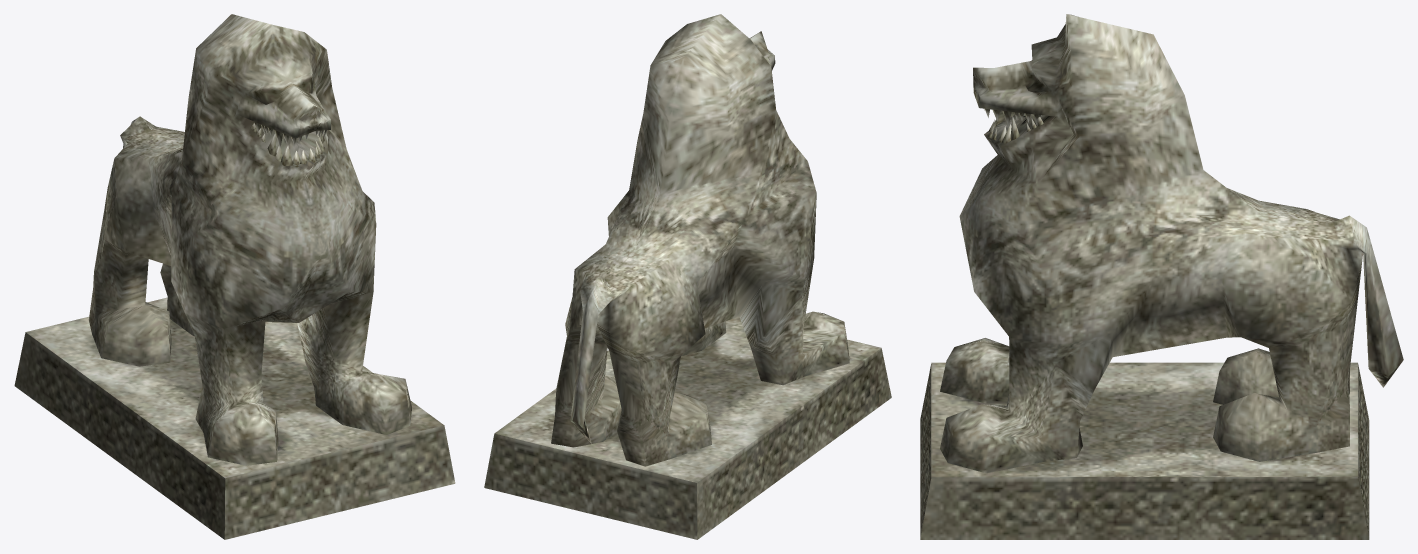
Rendered from general_obj_lionstoneimage.fbx.
3 renders of one model, left to right at view 1: azimuth 30°, elevation 25°; view 2: azimuth 150°, elevation 25°; view 3: azimuth 270°, elevation 25°, orthographic. The views are drawn at different scales.
Visible parts, largest first — view 1: Object19; view 2: Object19; view 3: Object19.
Boxes of the visible parts, bbox=[...] form: Object19: bbox=[14, 14, 455, 539]; Object19: bbox=[484, 14, 891, 539]; Object19: bbox=[920, 14, 1403, 539].
Bounding box in the file's own units: 2.77 × 5.01 × 4.71.
